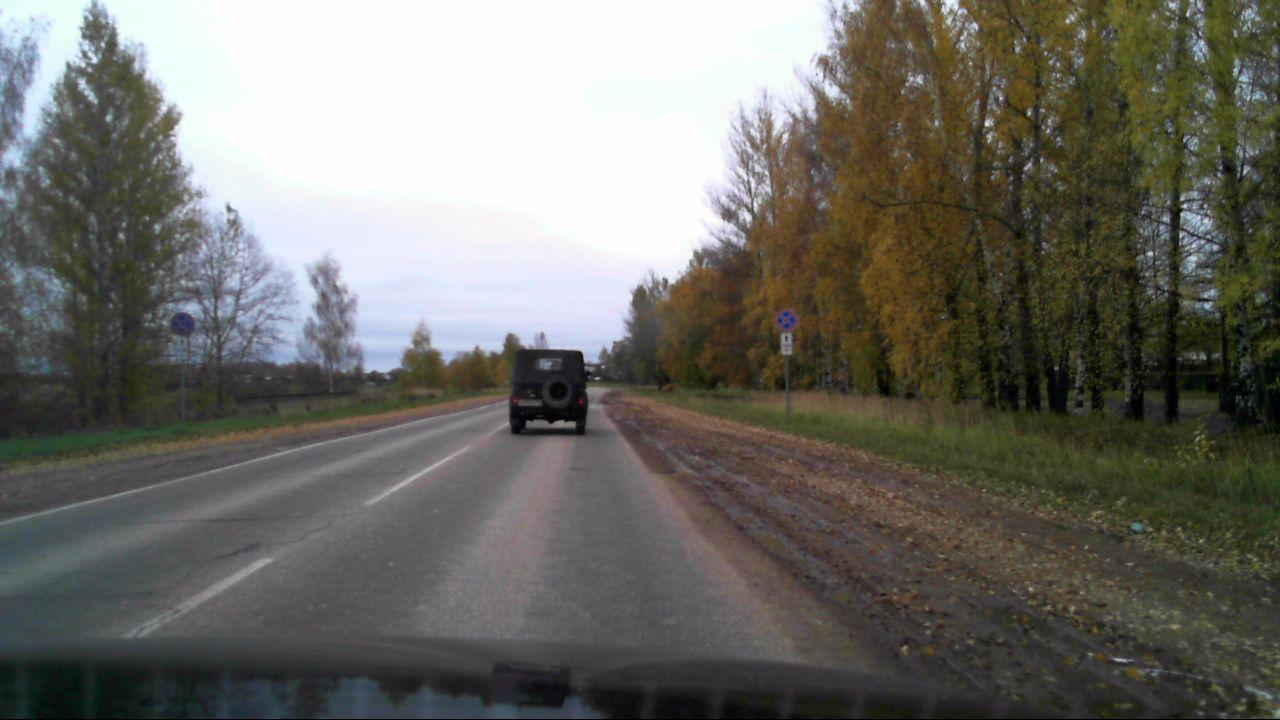road_sign: (776, 310, 797, 330)
